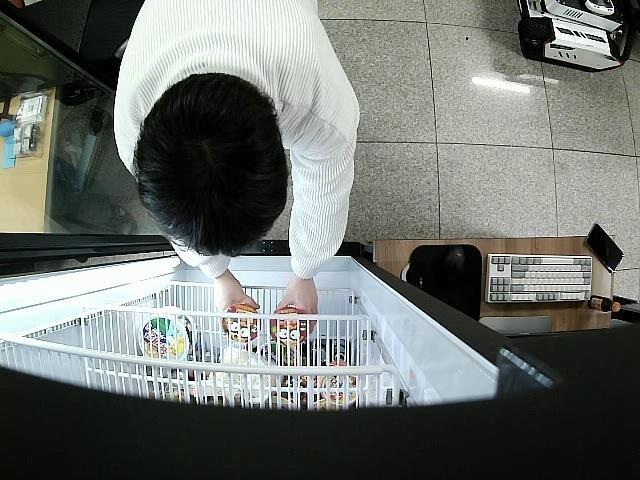06_nuguri_S: (220, 304, 262, 344), (270, 307, 310, 346)
